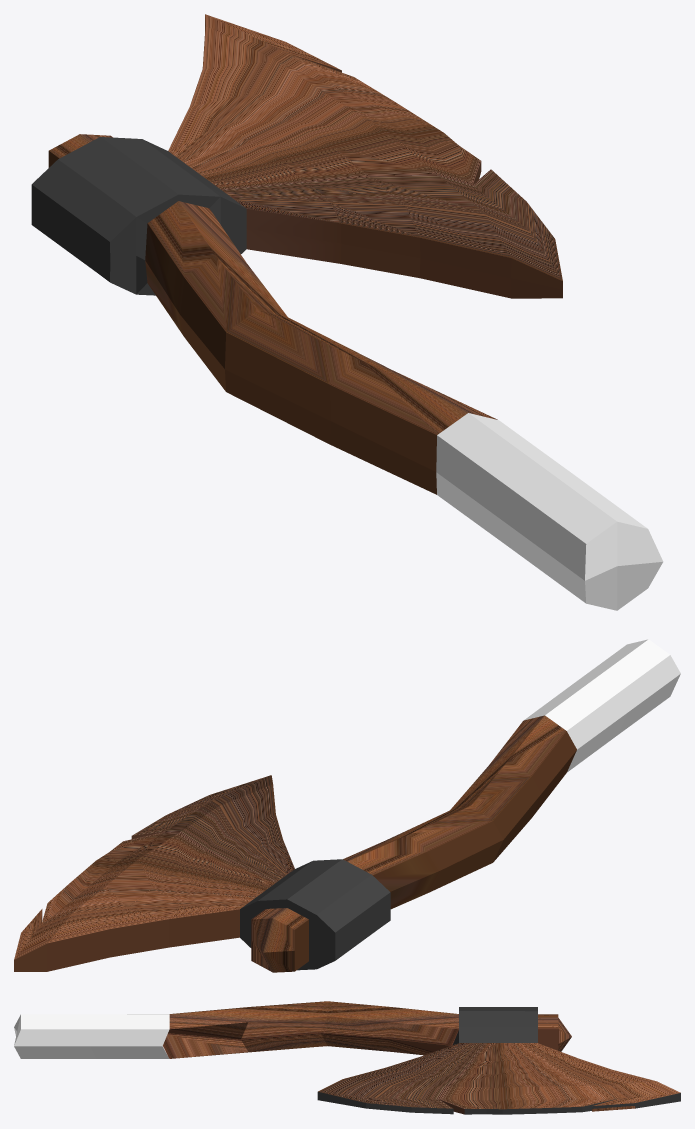
Rendered from ascialegno.glb.
The picture shows the model from 3 angles, top to bottom: view 1: azimuth 30°, elevation 25°; view 2: azimuth 150°, elevation 25°; view 3: azimuth 270°, elevation 25°; orthographic projection. The views are drawn at different scales.
Parts seen in each view (by area): view 1: Plane, Plane.001; view 2: Plane, Plane.001; view 3: Plane, Plane.001.
Boxes of the visible parts, box(x1,y1,x2,y2) form: Plane: box(31, 14, 562, 494); Plane.001: box(436, 413, 663, 610); Plane: box(14, 715, 576, 972); Plane.001: box(524, 639, 680, 772); Plane: box(163, 1001, 680, 1114); Plane.001: box(14, 1014, 169, 1058).
Size of the model in its own units: 5.88 by 1.43 by 16.93.
Materials: 3 (1 with a texture image).
